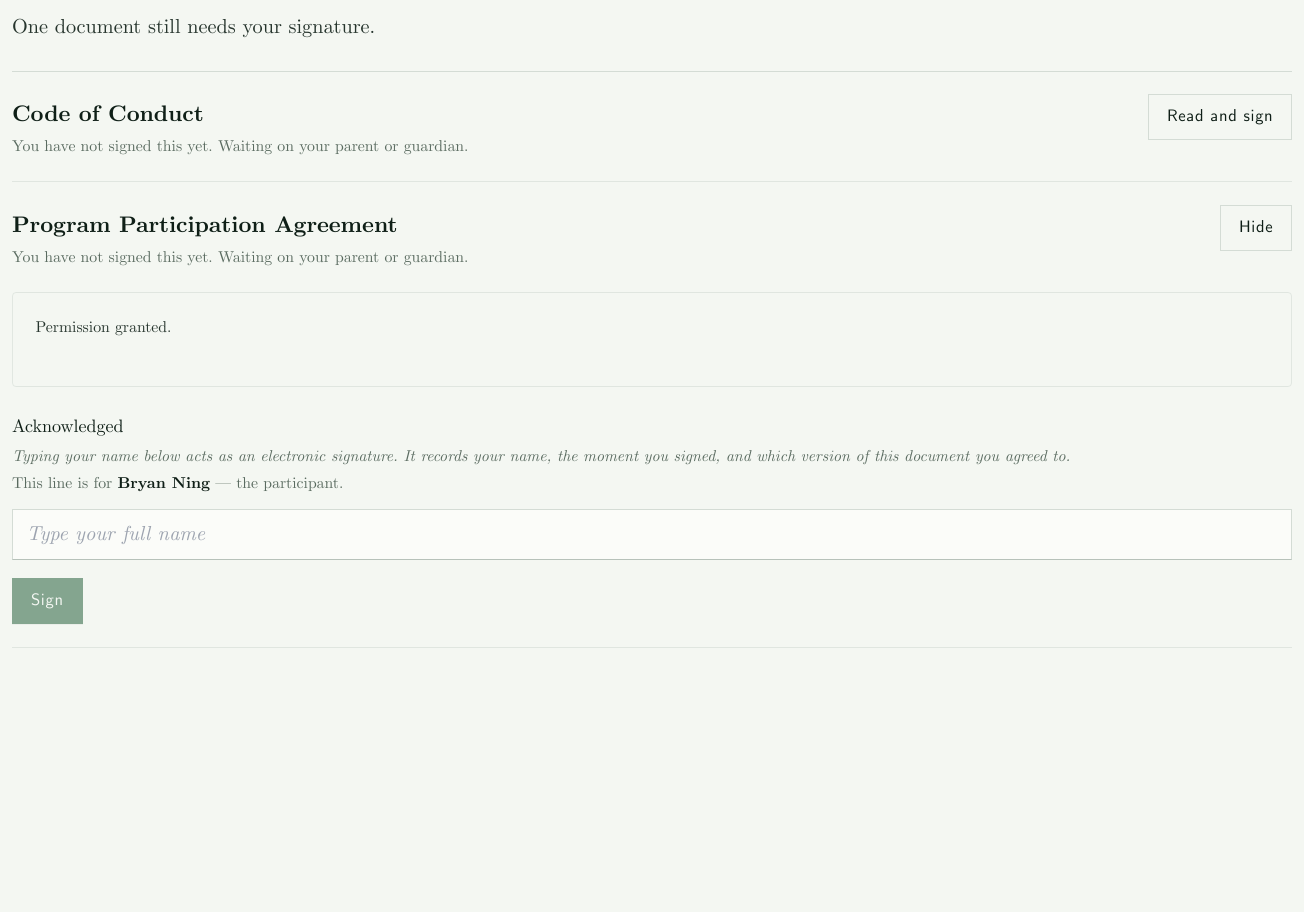
it: signing as the wrong person › lets the student sign their own name
Type "Bryan Ning" into the field with placeholder "Type your full name".
click(652, 535); type("Bryan Ning")  # box [12, 509, 1292, 560]
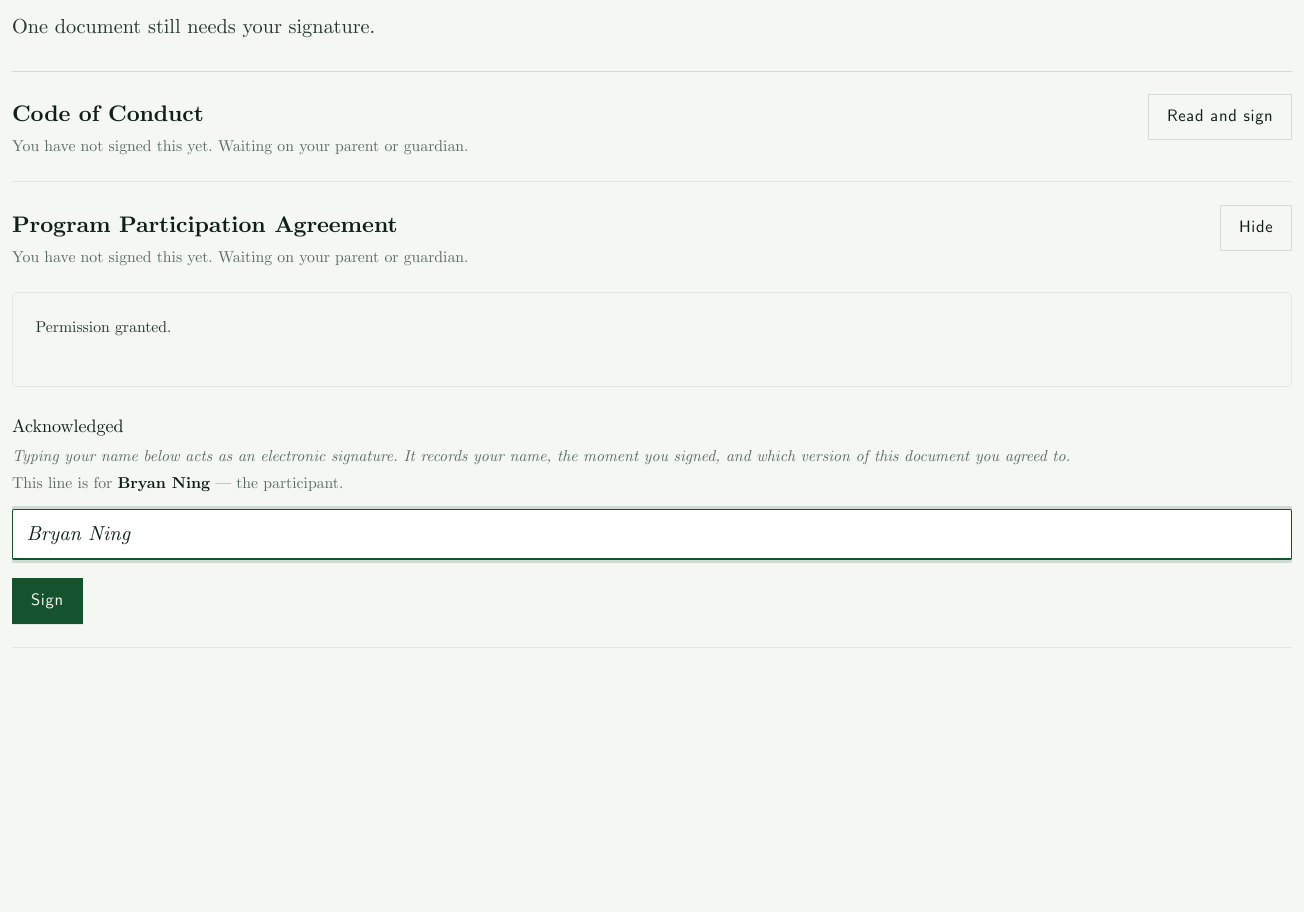
Result: the button "Sign" is enabled at [12, 578, 83, 624]
